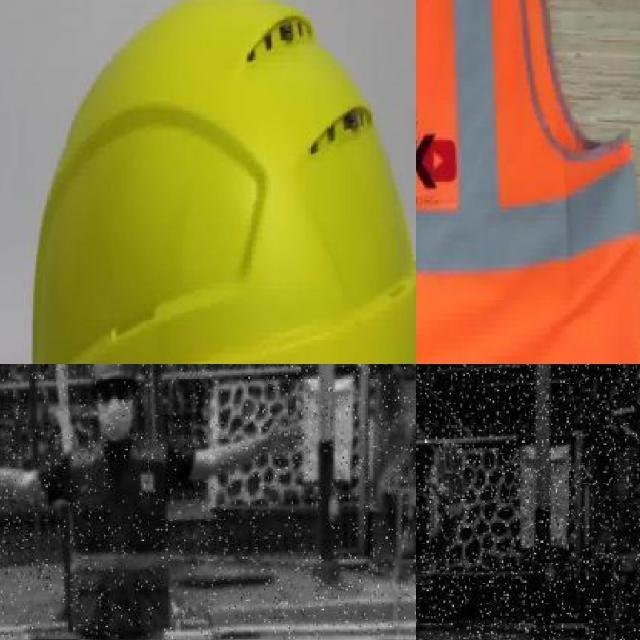apron: (427, 440, 467, 520)
